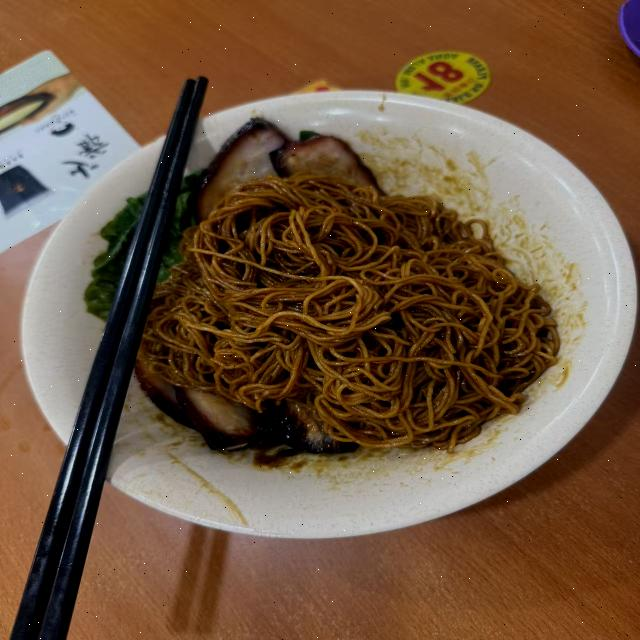Wantan Mee: (55, 75, 579, 517)
